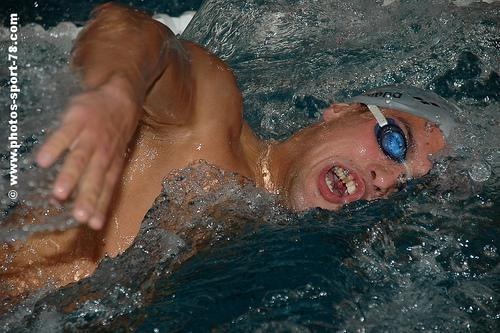swimmer: (0, 8, 500, 310)
